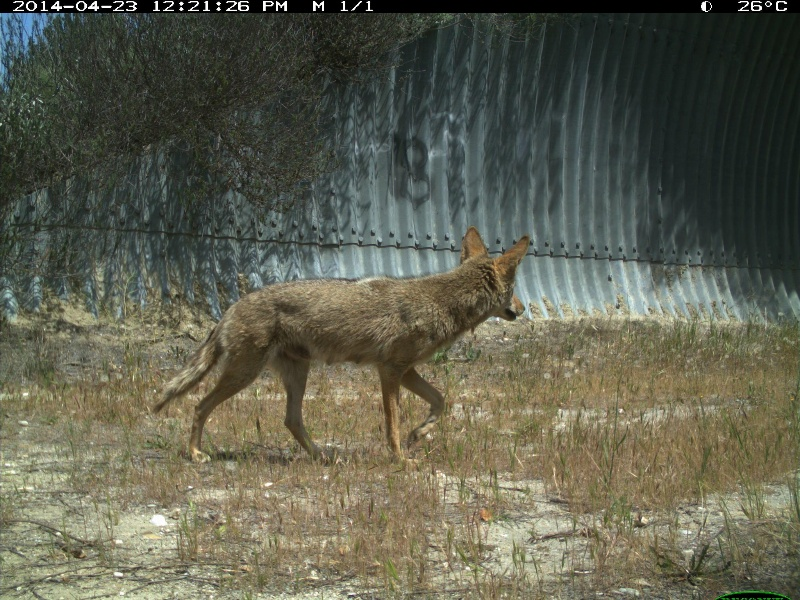coyote: (155, 223, 532, 470)
